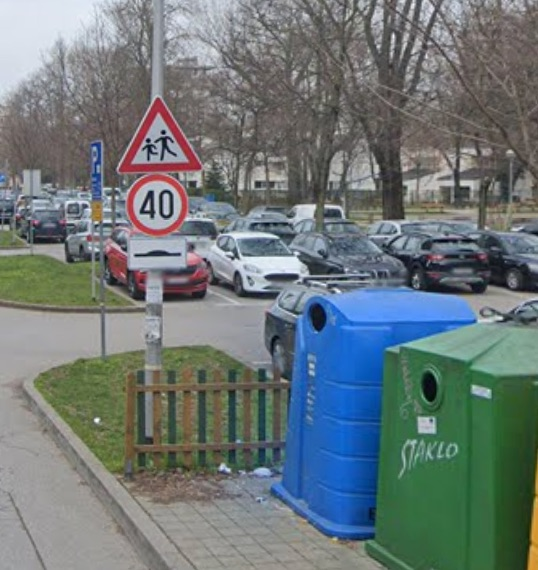Ograničenje brzine 40: (126, 174, 188, 236)
